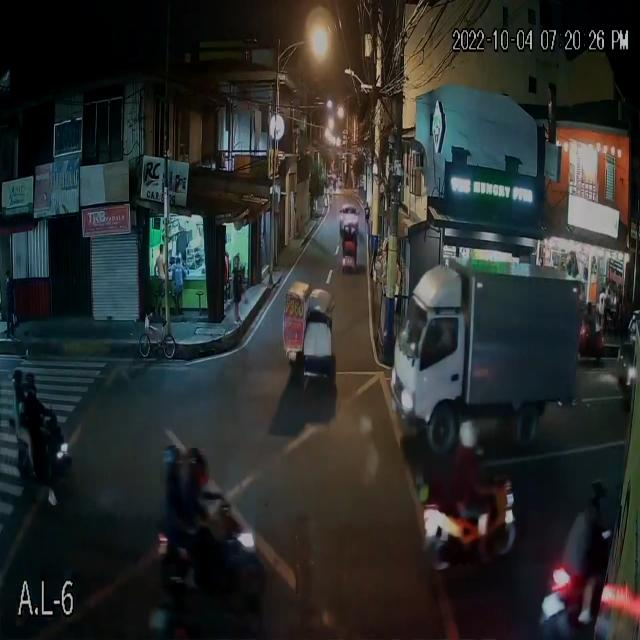Full-Faced: (180, 436, 210, 476), (158, 441, 182, 481), (460, 411, 477, 447), (22, 368, 38, 394), (9, 365, 27, 388)
